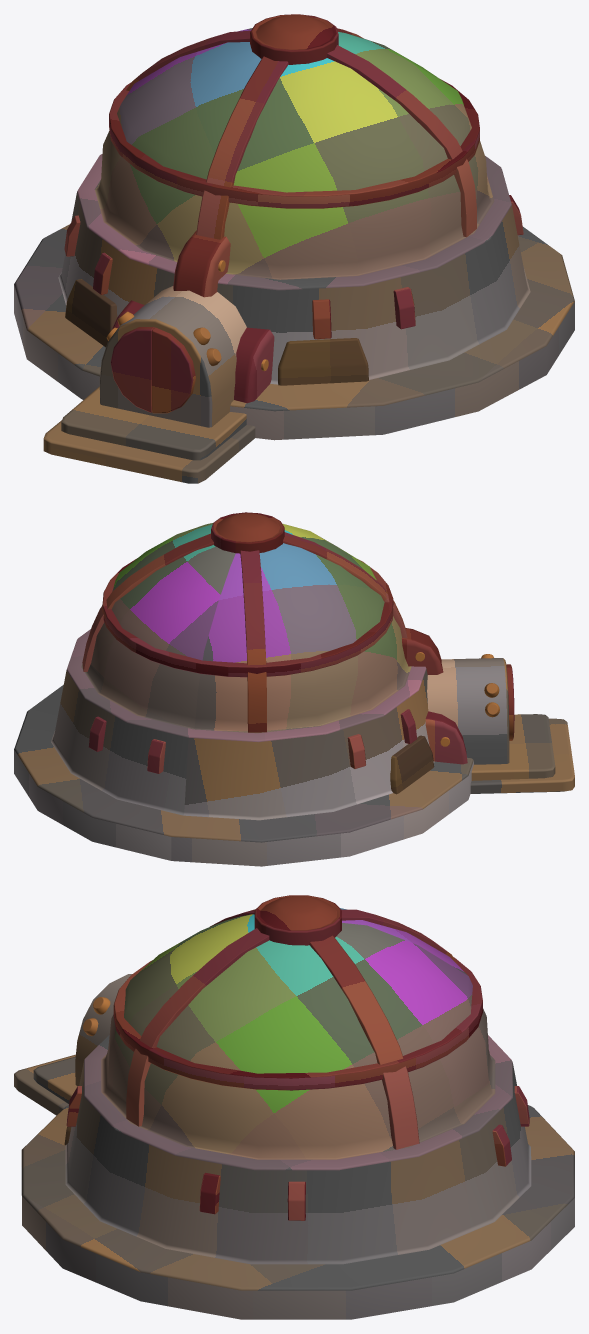
File: mars_building_living(placeholder).glb
3 renders of one model, top to bottom at view 1: azimuth 30°, elevation 25°; view 2: azimuth 150°, elevation 25°; view 3: azimuth 270°, elevation 25°, orthographic. The views are drawn at different scales.
Visible parts, largest first — view 1: Farm.001; view 2: Farm.001; view 3: Farm.001.
Part boxes in pixels (bbox=[...]): Farm.001: bbox=[14, 14, 574, 483]; Farm.001: bbox=[14, 512, 574, 866]; Farm.001: bbox=[14, 895, 574, 1319].
Size of the model in its own units: 15.94 by 8.14 by 13.81.
Materials: 1 (1 with a texture image).
